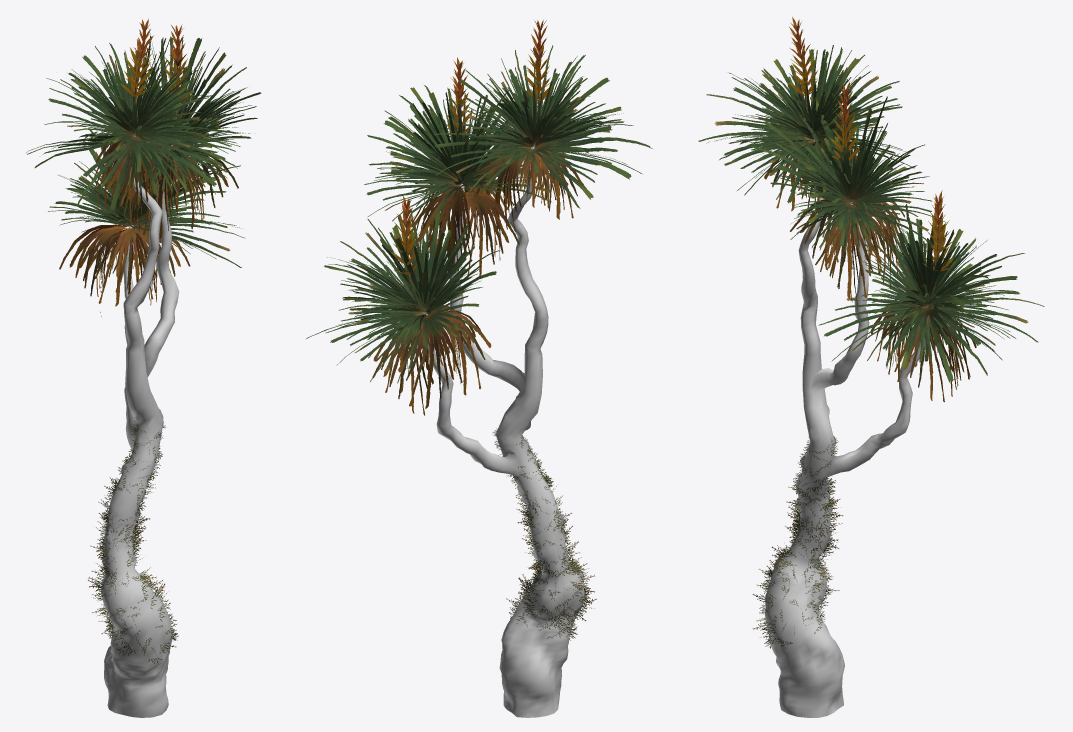
Rendered from Tree_09_2_L0.fbx.
3 renders of one model, left to right at view 1: azimuth 30°, elevation 25°; view 2: azimuth 150°, elevation 25°; view 3: azimuth 270°, elevation 25°, orthographic.
Parts seen in each view (by area): view 1: polySurface64; view 2: polySurface64; view 3: polySurface64.
Part boxes in pixels (<box>): polySurface64: <box>26,19,261,717</box>; polySurface64: <box>306,20,652,717</box>; polySurface64: <box>698,17,1044,717</box>.
Bounding box in the file's own units: 507 × 1235 × 598.
